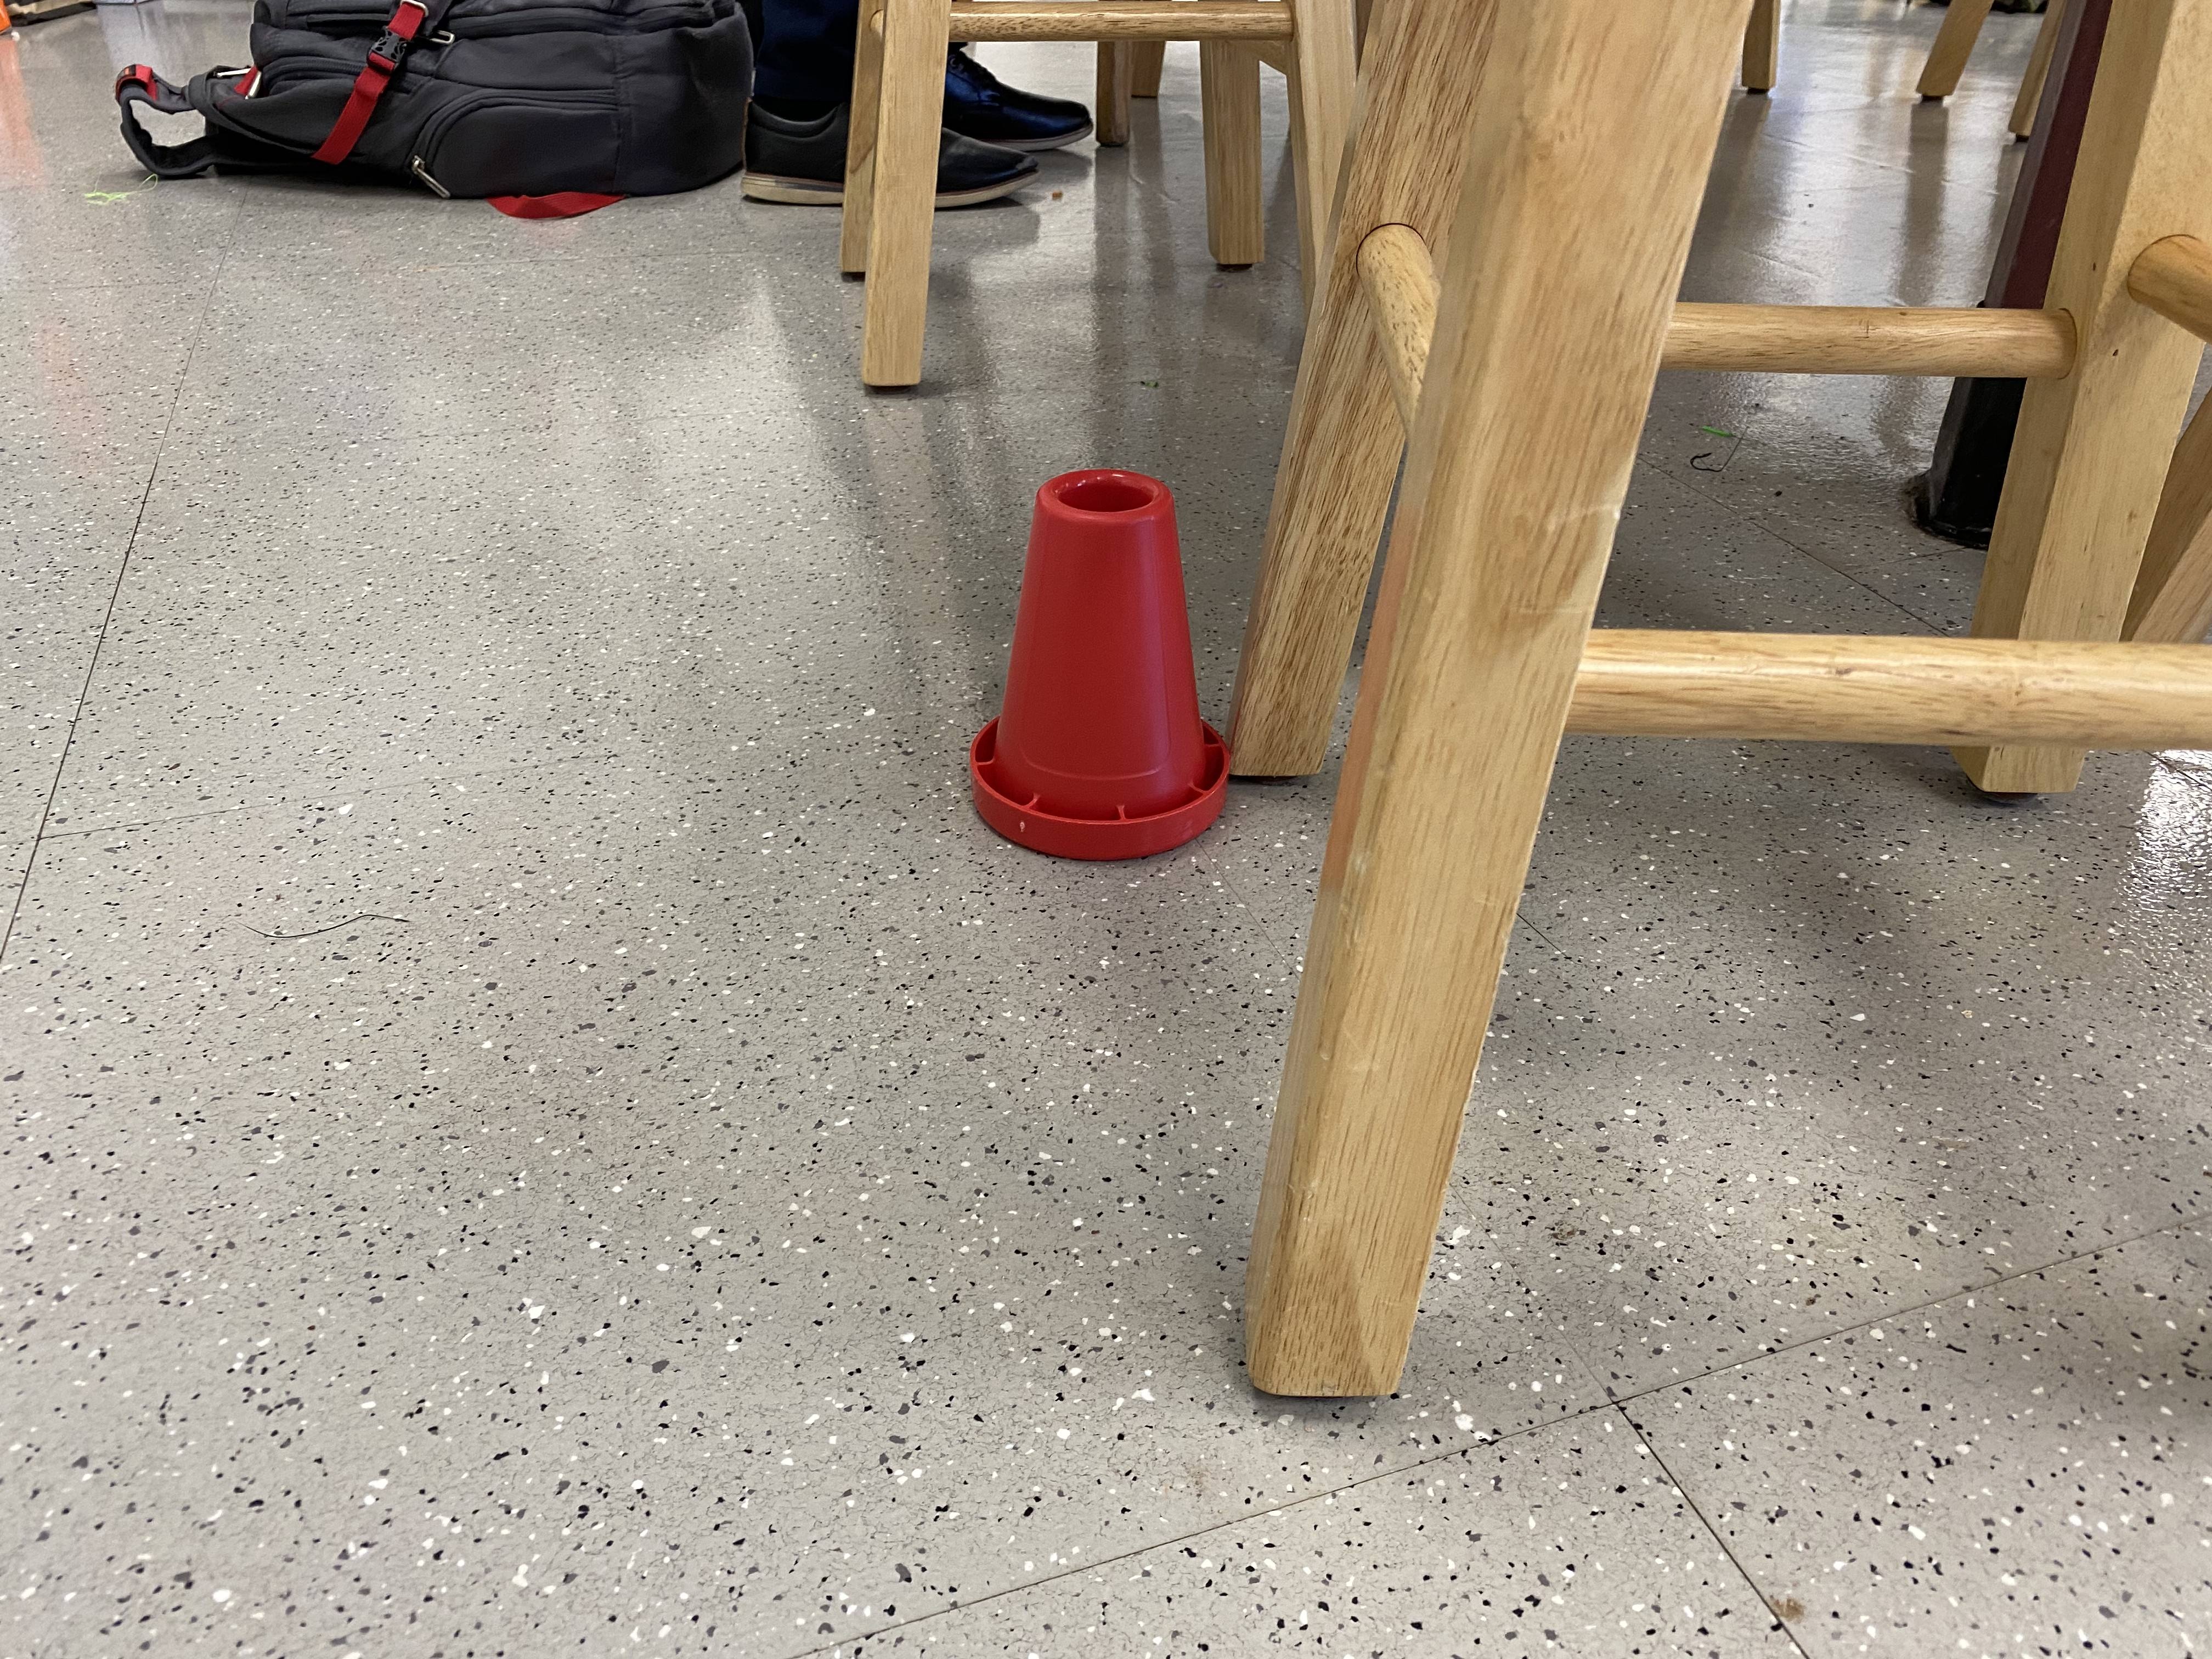redCone: (963, 455, 1249, 870)
